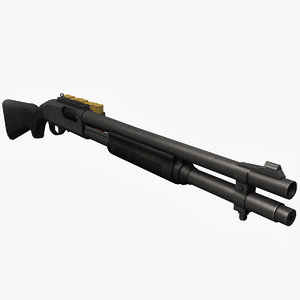weapon: (2, 93, 297, 226)
